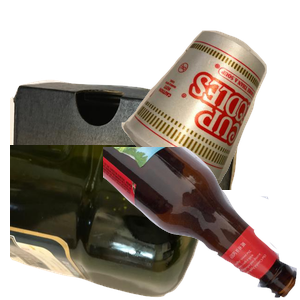cardboard: (10, 77, 245, 257)
glass: (103, 147, 300, 300)
plastic: (10, 145, 213, 300)
trash: (119, 28, 300, 207)
